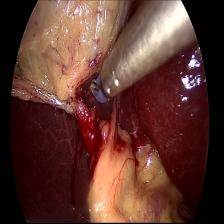Bipolar: (80, 43, 127, 111)
